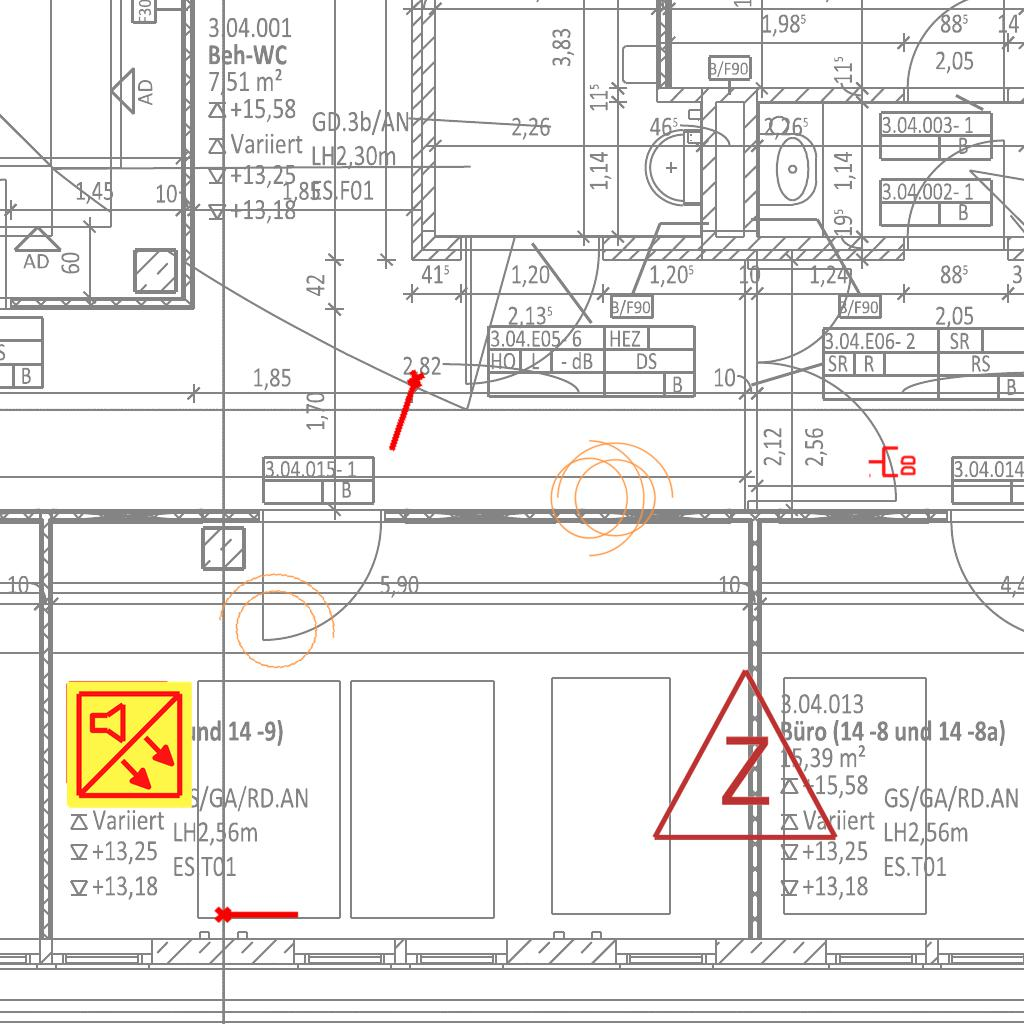ASR_Ansaugoeffnung: (380, 366, 432, 457), (213, 902, 301, 925)
Datenanschluss_zweifach: (867, 444, 918, 478)
OKW_Multisensormelder_(Kombination_optischer_Rauch-Kahlenmonoxid_Waerme-Melder): (63, 679, 195, 811)
Scheinwerfer_fuer_Alarmbeleuchtung: (200, 558, 348, 690), (538, 429, 650, 561), (546, 437, 678, 549)
Zimmersignalleuchte: (645, 655, 841, 855)
